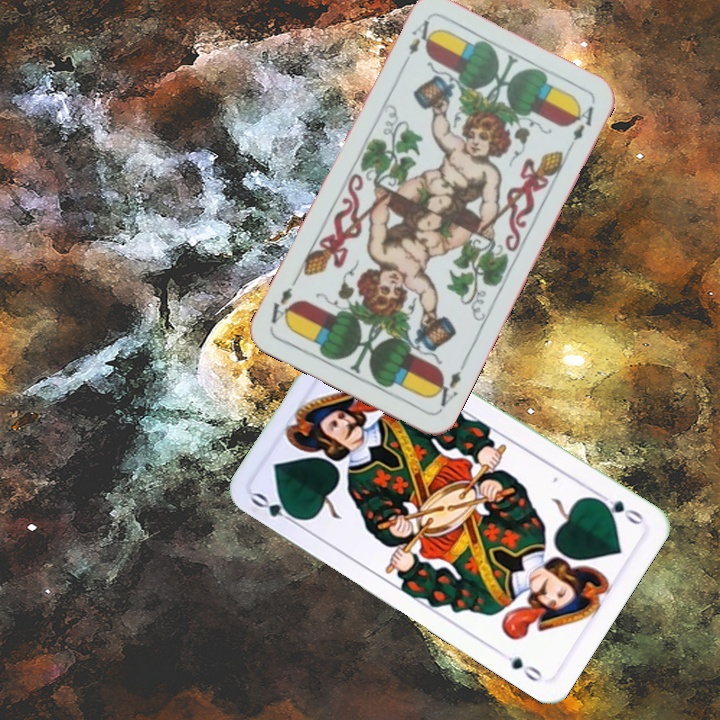EA: (428, 357, 469, 409), (398, 15, 436, 69)
GO: (247, 488, 304, 529), (591, 488, 646, 528)
